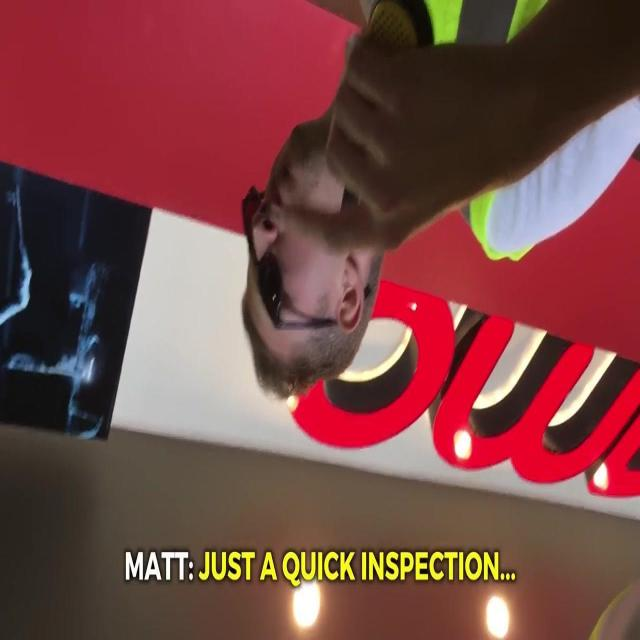Vest: (422, 0, 592, 260)
